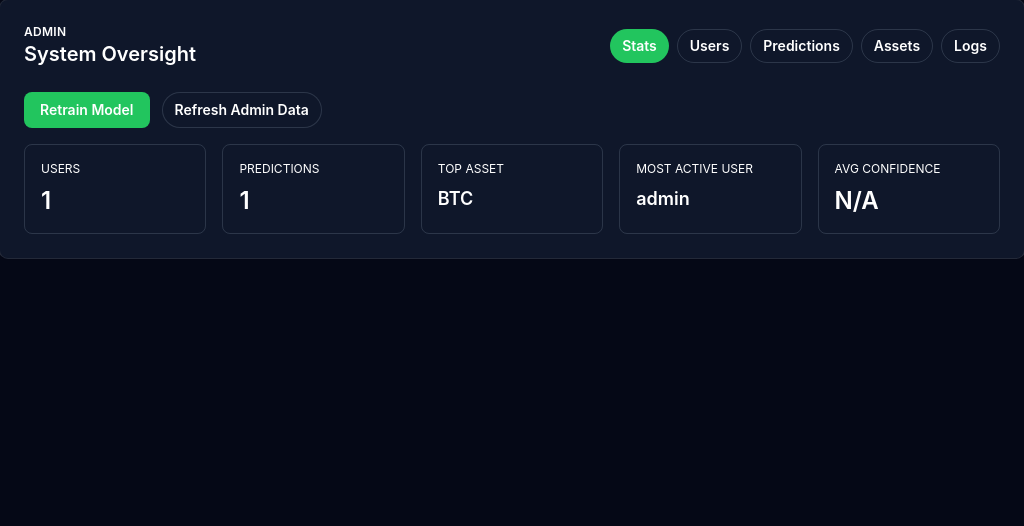
Test case: AdminPanel › loads stats, users, and predictions from admin endpoints
The width and height of the screenshot is (1024, 526).
Expected: the heading "System Oversight" is shown, 24,40 -> 196,68
Expected: the text "BTC" is shown, 438,188 -> 473,209
Click the button "Users".
click(710, 46)  # box 677,29 -> 742,63
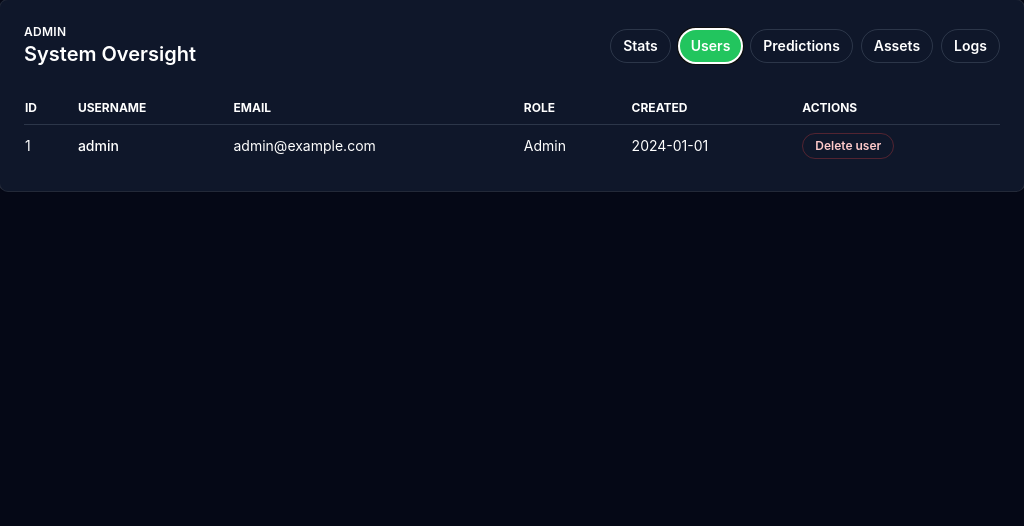
Now the text "admin@example.com" is shown, box 232,124 -> 523,167
Click the button "Predictions".
click(802, 46)  # box 750,29 -> 853,63
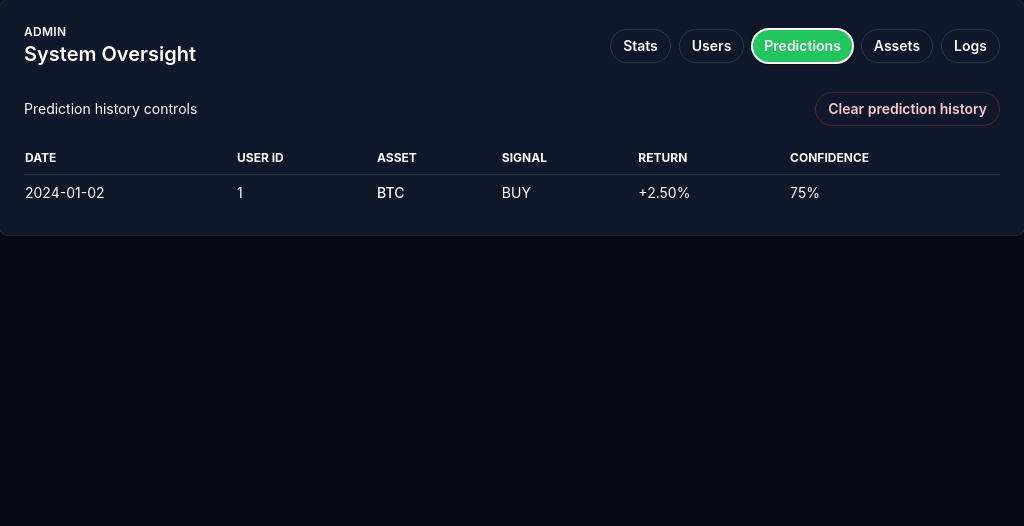
Now the text "+2.50%" is shown, box 637,174 -> 789,211
Click the button "Assets".
click(897, 46)  # box 861,29 -> 933,63
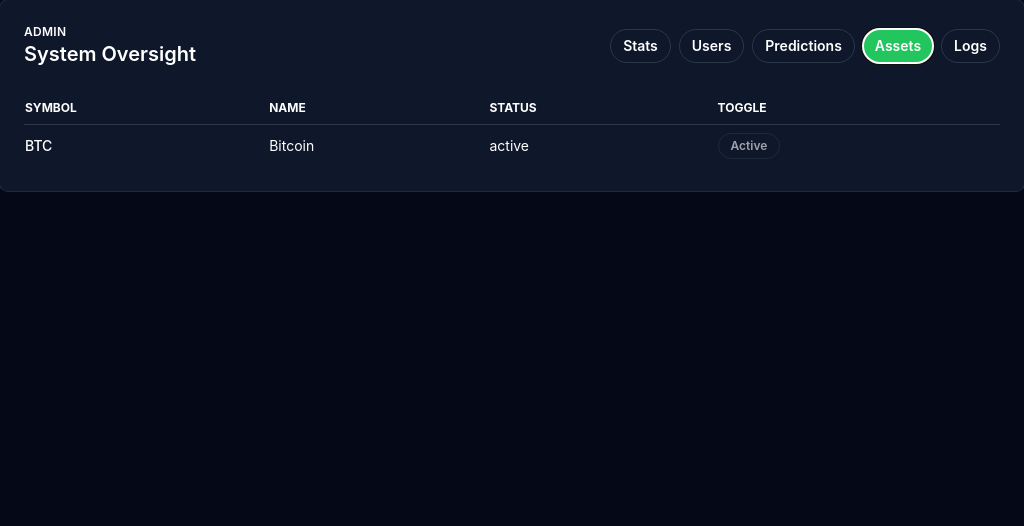
Now the text "Bitcoin" is shown, box 268,124 -> 488,167
Click the button "Logs".
click(971, 46)  # box 941,29 -> 1000,63
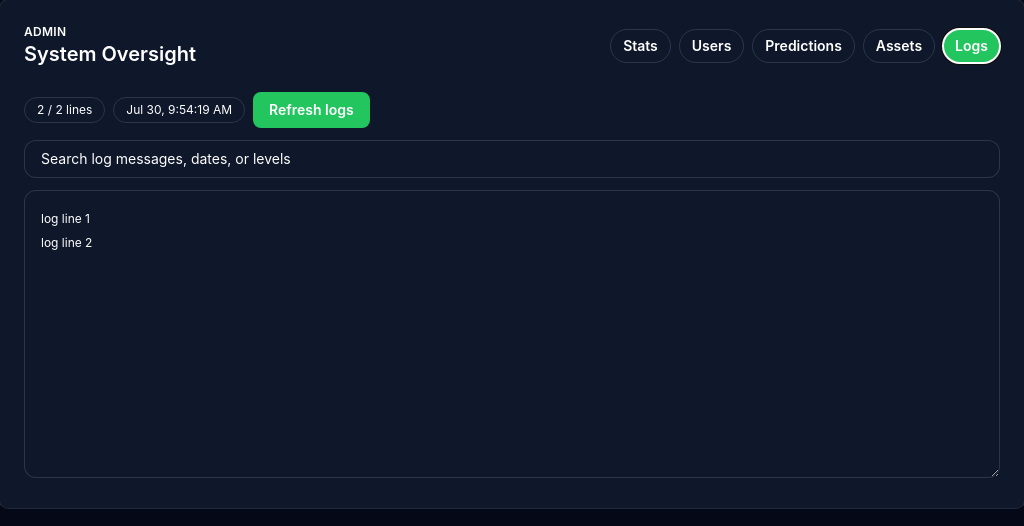
Now the text box showing "log line 1" is shown, box 24,190 -> 1000,478
